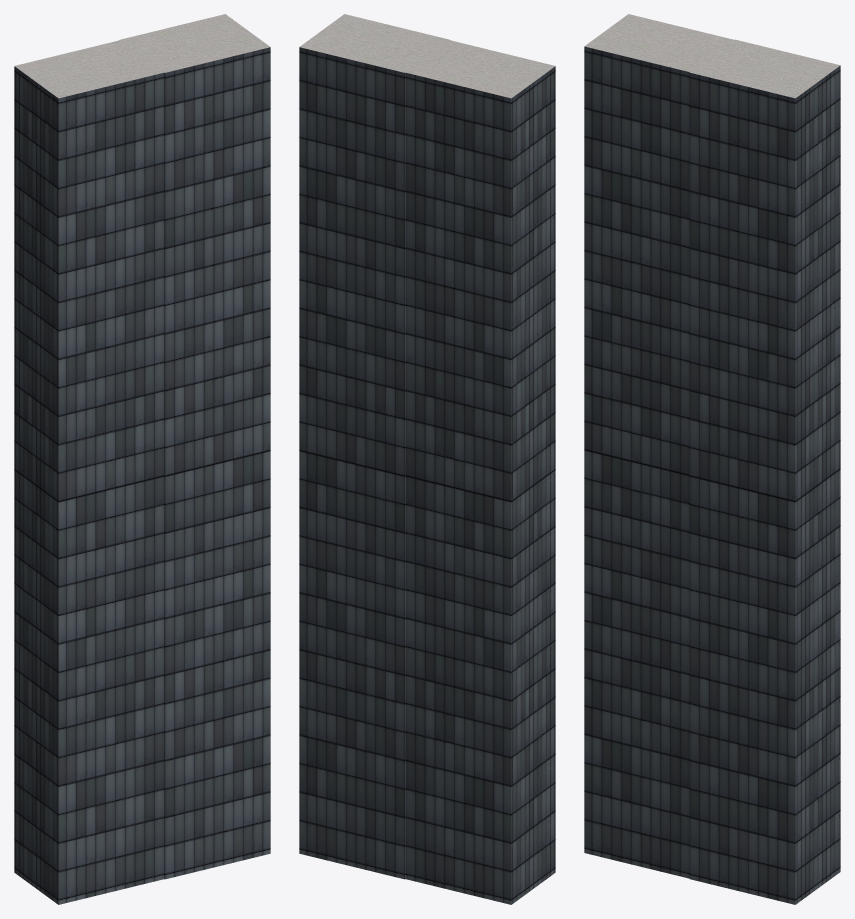
File: building36.gltf
The picture shows the model from 3 angles, left to right: view 1: azimuth 30°, elevation 25°; view 2: azimuth 150°, elevation 25°; view 3: azimuth 330°, elevation 25°; orthographic projection.
Visible parts, largest first — view 1: building36; view 2: building36; view 3: building36.
Part boxes in pixels (x1,y1,x2,y2): building36: (14, 14, 270, 904); building36: (299, 14, 555, 904); building36: (584, 14, 840, 904).
Bounding box in the file's own units: 4.05 × 14.74 × 1.5.
2 materials, 2 textured.
